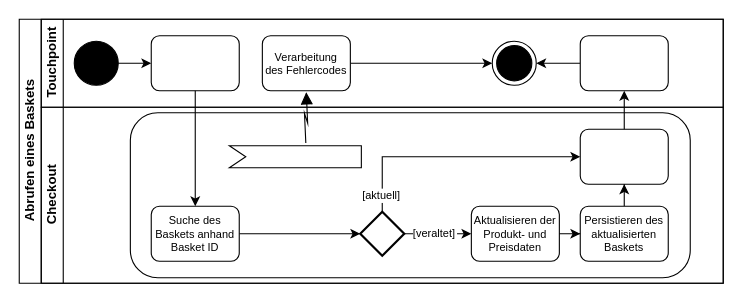
Image size: 741x301. Some labels were removed from this diagram. The shapes that lost their labels are listed below. From the top down, each one's centre as x and y in pixels, then its label:
At point 194,63: "Bsp. Kunde öffnet den Basket".
At point 623,63: "Anzeigen des Baskets".
At point 294,156: "Basket existiert nicht".
At point 623,156: "Rückgabe des Baskets".
